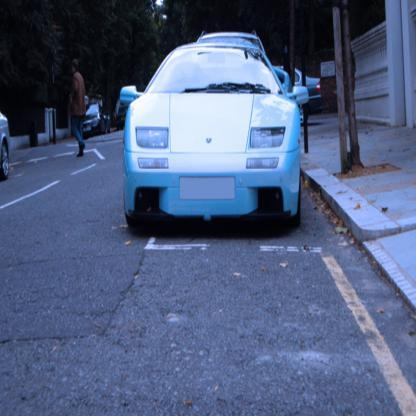car: (115, 33, 300, 229), (292, 66, 324, 108), (84, 104, 111, 130)
